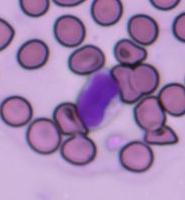L: (75, 68, 123, 130)
